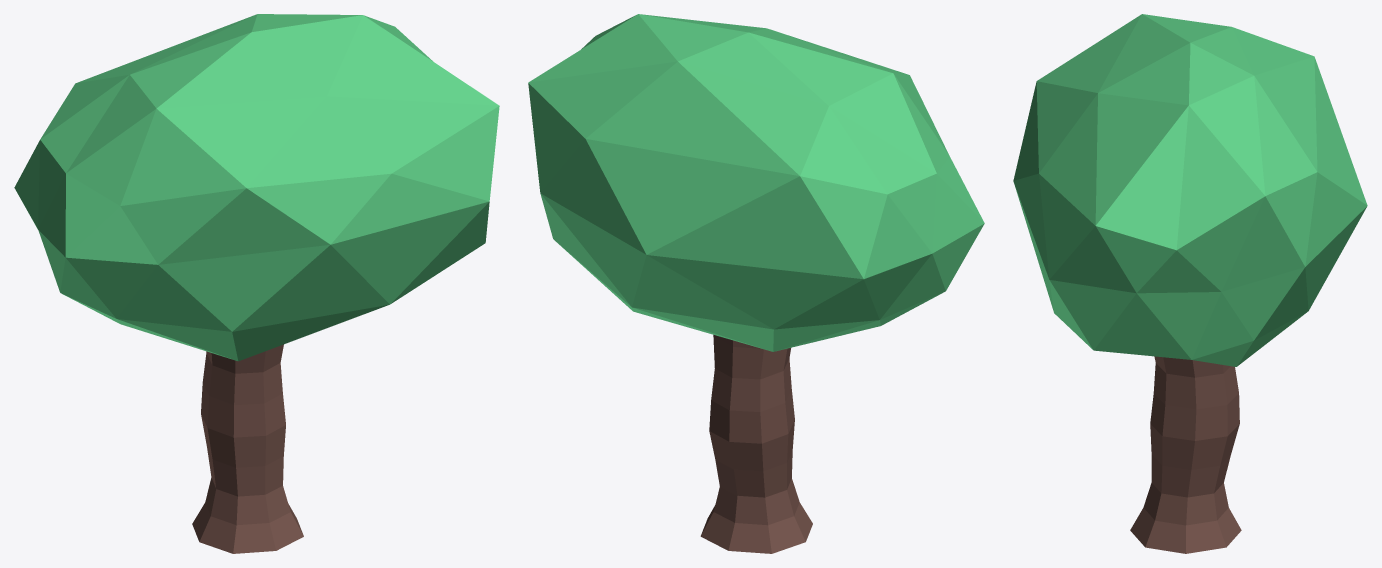
Rendered from drzewo_8.fbx.
3 views of the same model, side by side, from view 1: azimuth 30°, elevation 25°; view 2: azimuth 150°, elevation 25°; view 3: azimuth 270°, elevation 25° (orthographic).
Parts seen in each view (by area): view 1: Icosphere; view 2: Icosphere; view 3: Icosphere.
Boxes of the visible parts, bbox=[...] form: Icosphere: bbox=[14, 14, 499, 553]; Icosphere: bbox=[528, 14, 984, 553]; Icosphere: bbox=[1013, 14, 1367, 553].
Bounding box in the file's own units: 2648 × 2982 × 1952.
